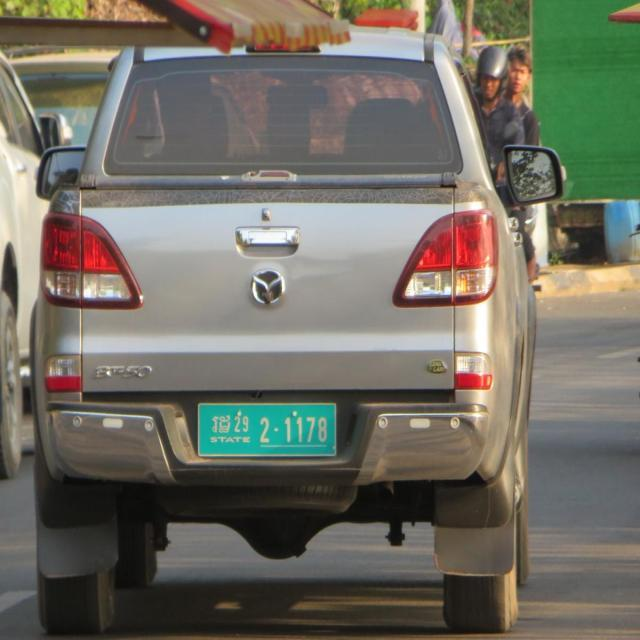State: (212, 415, 232, 435)
